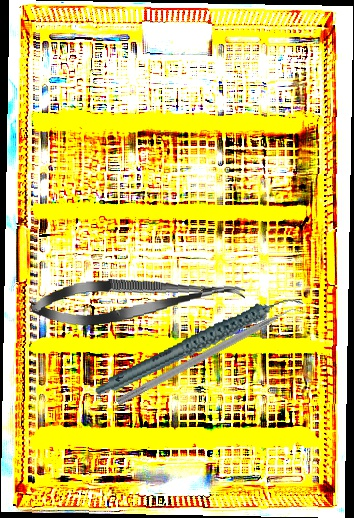Chopper: (115, 300, 310, 416)
Handpiece: (84, 293, 314, 397)
Micro Scissor: (29, 267, 247, 331)
